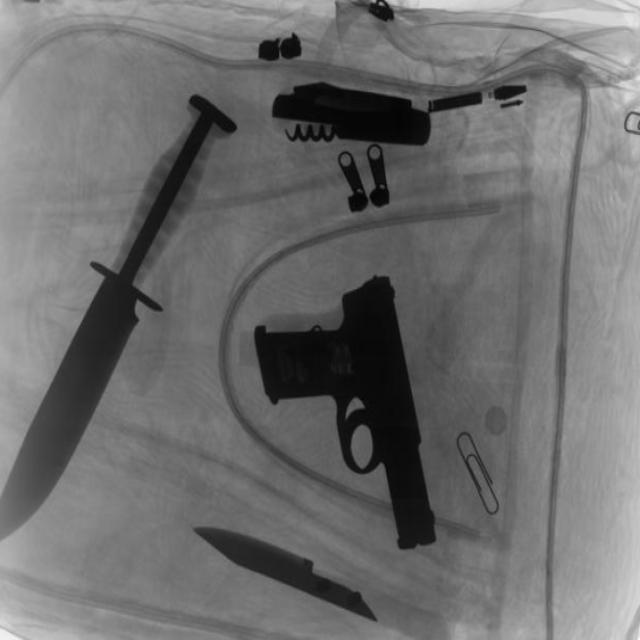GUN: (258, 289, 438, 553), (265, 80, 434, 152)
KNIFE: (7, 84, 200, 567), (186, 515, 382, 631)
